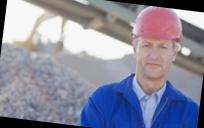helmet: (128, 4, 191, 44)
wear: (80, 78, 201, 128)
